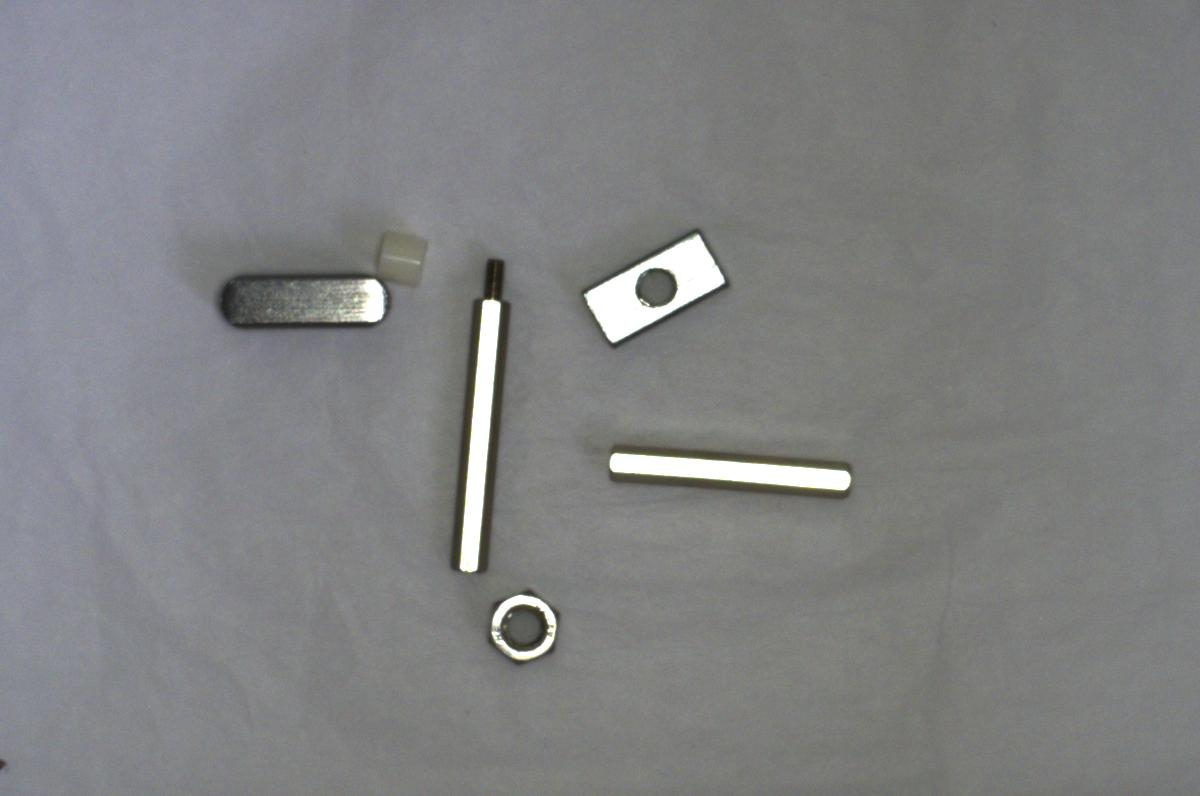Double hexagonal column: (598, 439, 860, 506)
Hexagon nut: (475, 579, 562, 672)
Hexagonal steel column: (447, 253, 512, 581)
Keybar: (206, 259, 395, 338)
Plastic cushion pillar: (371, 225, 434, 288)
Rectangular nut: (578, 230, 730, 343)
